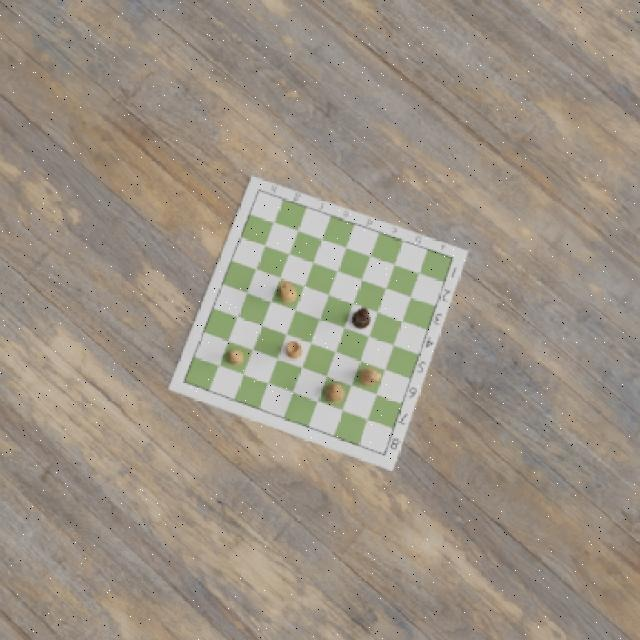black-king: (352, 307, 372, 331)
white-king: (322, 382, 345, 406)
white-knight: (358, 368, 382, 388)
white-pawn: (226, 348, 246, 368)
white-queen: (279, 279, 297, 304)
white-rook: (284, 339, 304, 361)
